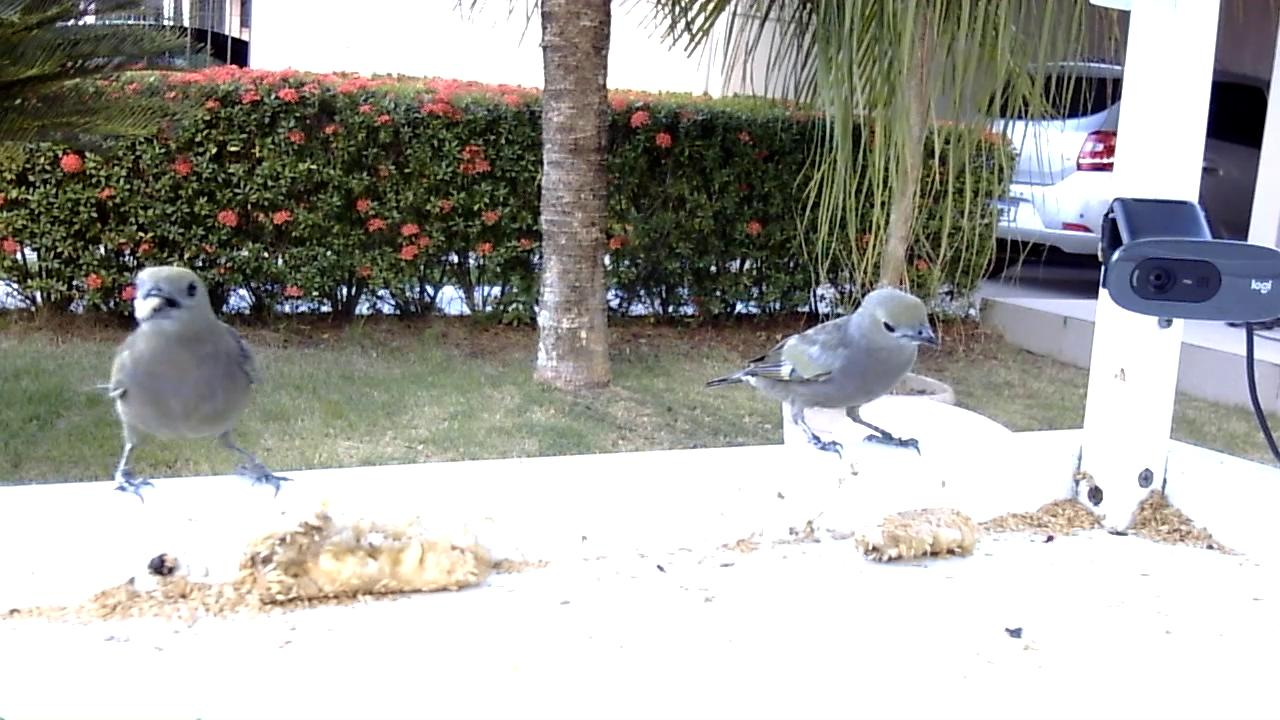sanhaco_do_coqueiro: (98, 265, 297, 502), (706, 288, 945, 459)
